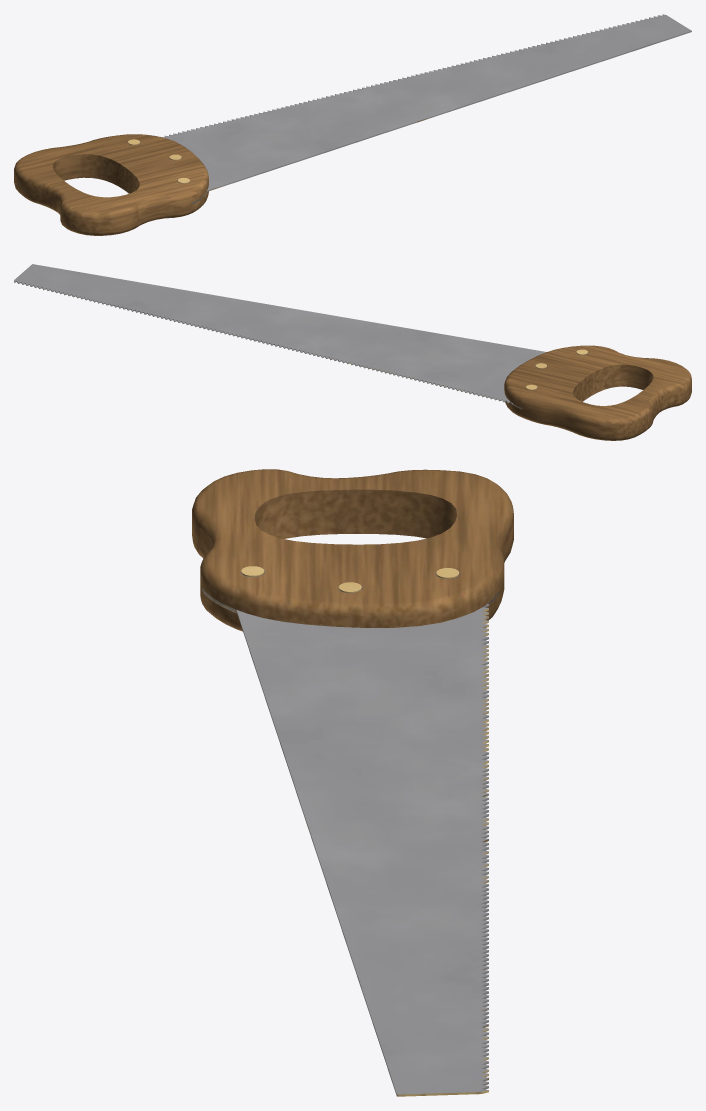
The model's file is serrote.glb.
The picture shows the model from 3 angles, top to bottom: view 1: azimuth 30°, elevation 25°; view 2: azimuth 150°, elevation 25°; view 3: azimuth 270°, elevation 25°; orthographic projection. The views are drawn at different scales.
Visible parts, largest first — view 1: lamina, cabo; view 2: lamina, cabo; view 3: lamina, cabo.
Boxes of the visible parts, x1,y1,x2,y2 form: lamina: (160,14,691,191); cabo: (14,134,208,235); lamina: (14,264,546,404); cabo: (504,345,691,440); lamina: (236,604,488,1096); cabo: (192,469,513,631).
Size of the model in its own units: 0.6789 by 0.0242 by 0.152.
Materials: 1 (1 with a texture image).
